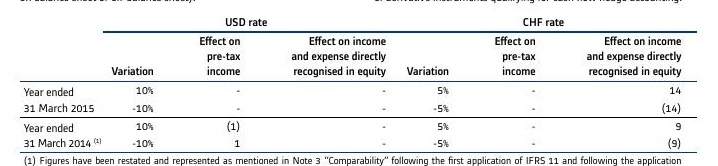table: (0, 0, 718, 166)
